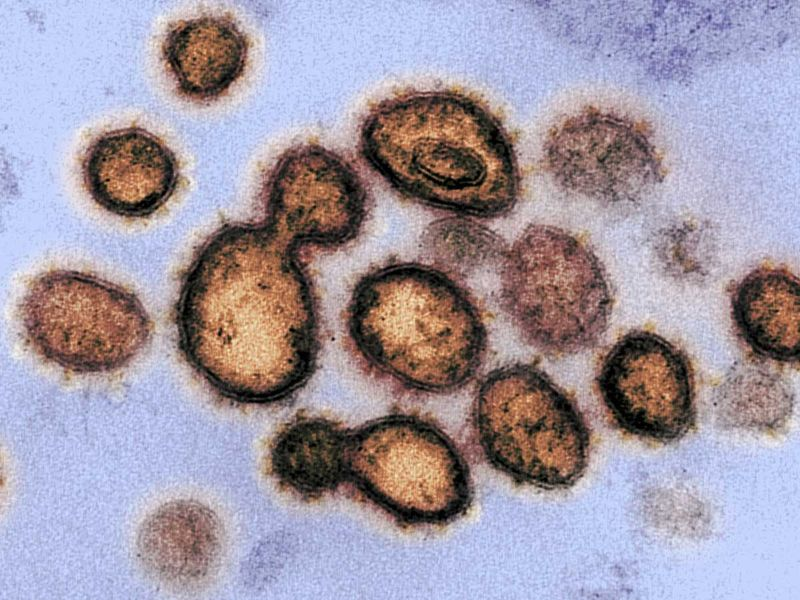COVID19: (348, 75, 534, 211), (341, 244, 483, 401), (22, 254, 169, 397), (75, 118, 192, 217), (153, 6, 239, 100)
